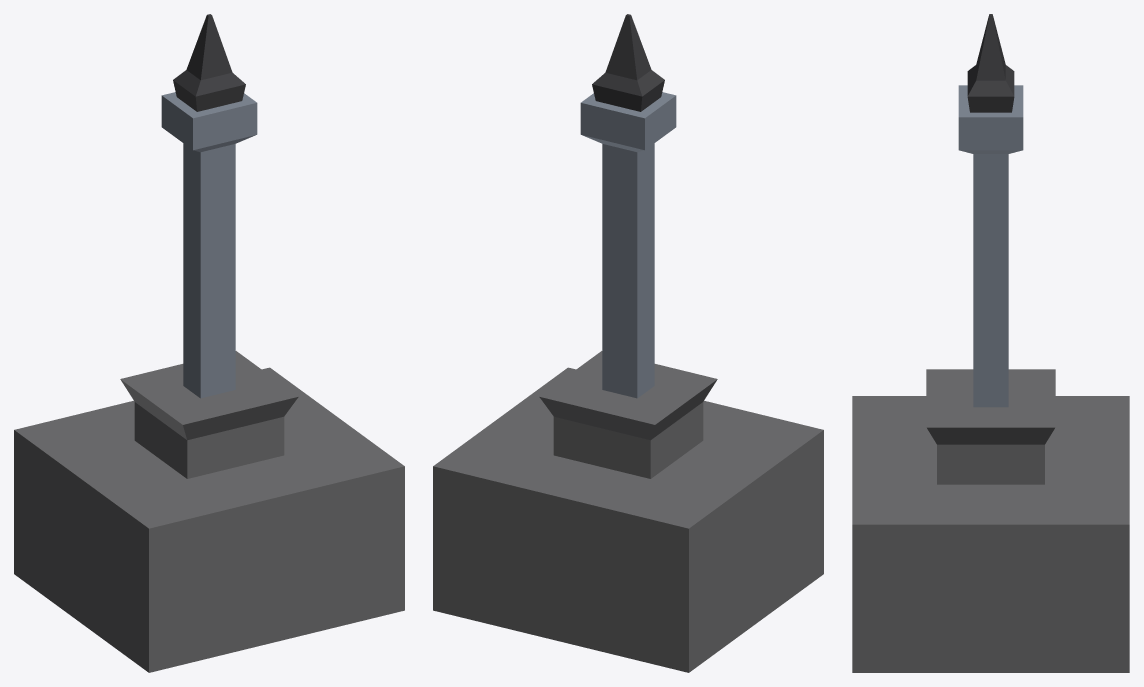
File: Environment_Objects_Monument.fbx
The picture shows the model from 3 angles, left to right: view 1: azimuth 30°, elevation 25°; view 2: azimuth 150°, elevation 25°; view 3: azimuth 270°, elevation 25°; orthographic projection. The views are drawn at different scales.
Visible parts, largest first — view 1: Environment_Objects_Monument; view 2: Environment_Objects_Monument; view 3: Environment_Objects_Monument.
Part boxes in pixels (x1,y1,x2,y2): Environment_Objects_Monument: (14, 14, 404, 672); Environment_Objects_Monument: (433, 14, 823, 672); Environment_Objects_Monument: (852, 14, 1129, 672).
Bounding box in the file's own units: 744 × 1604 × 680.
